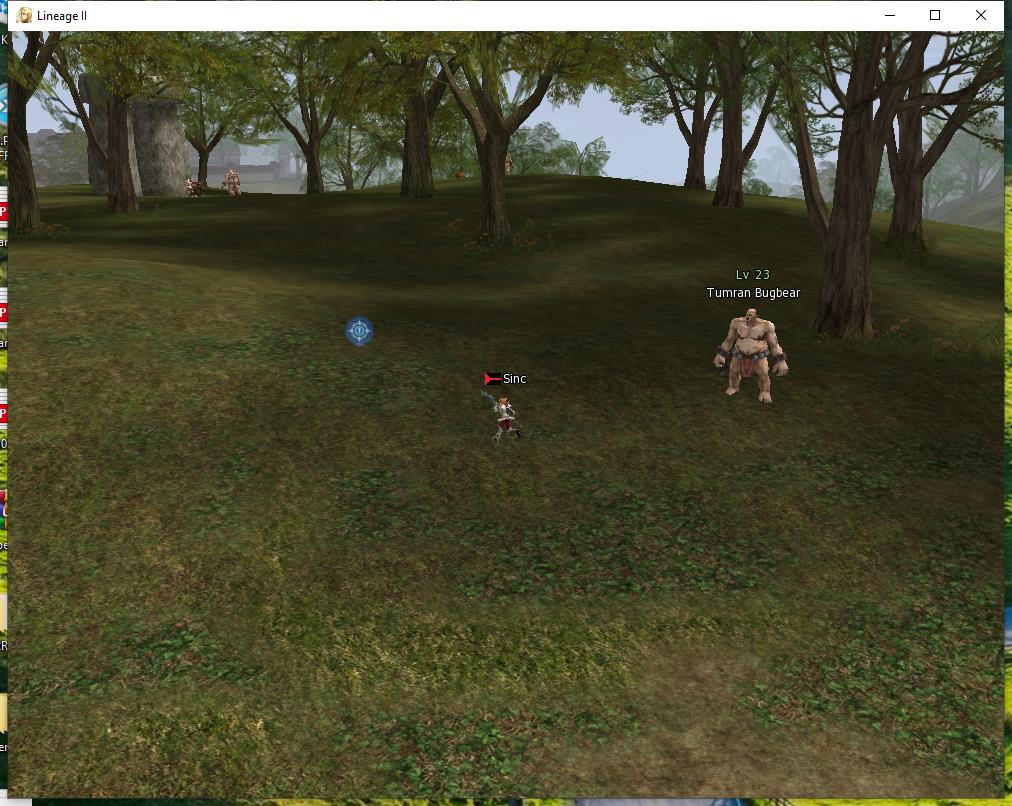monster: (691, 262, 814, 414), (179, 164, 204, 208), (221, 164, 246, 201)
